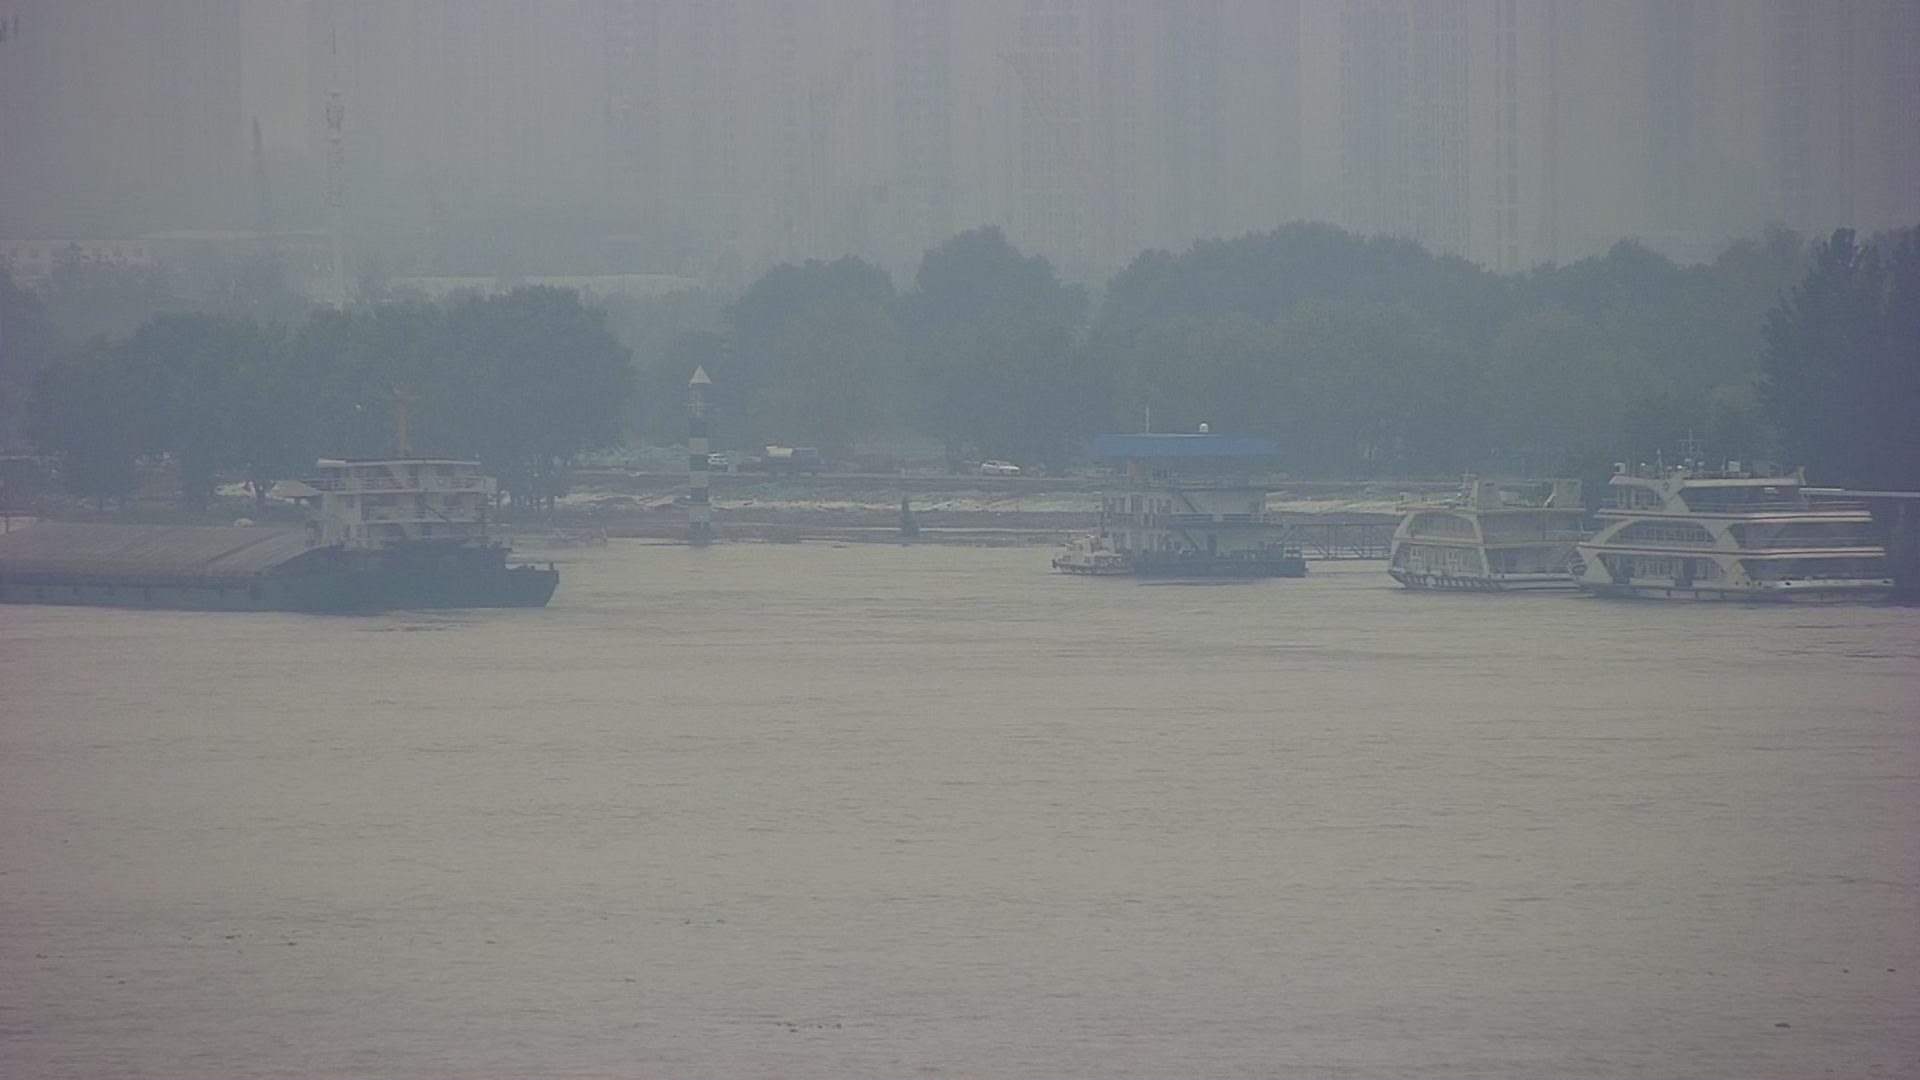ship: (1, 392, 564, 609), (1580, 454, 1896, 600), (1048, 431, 1309, 580), (1389, 472, 1585, 587)
